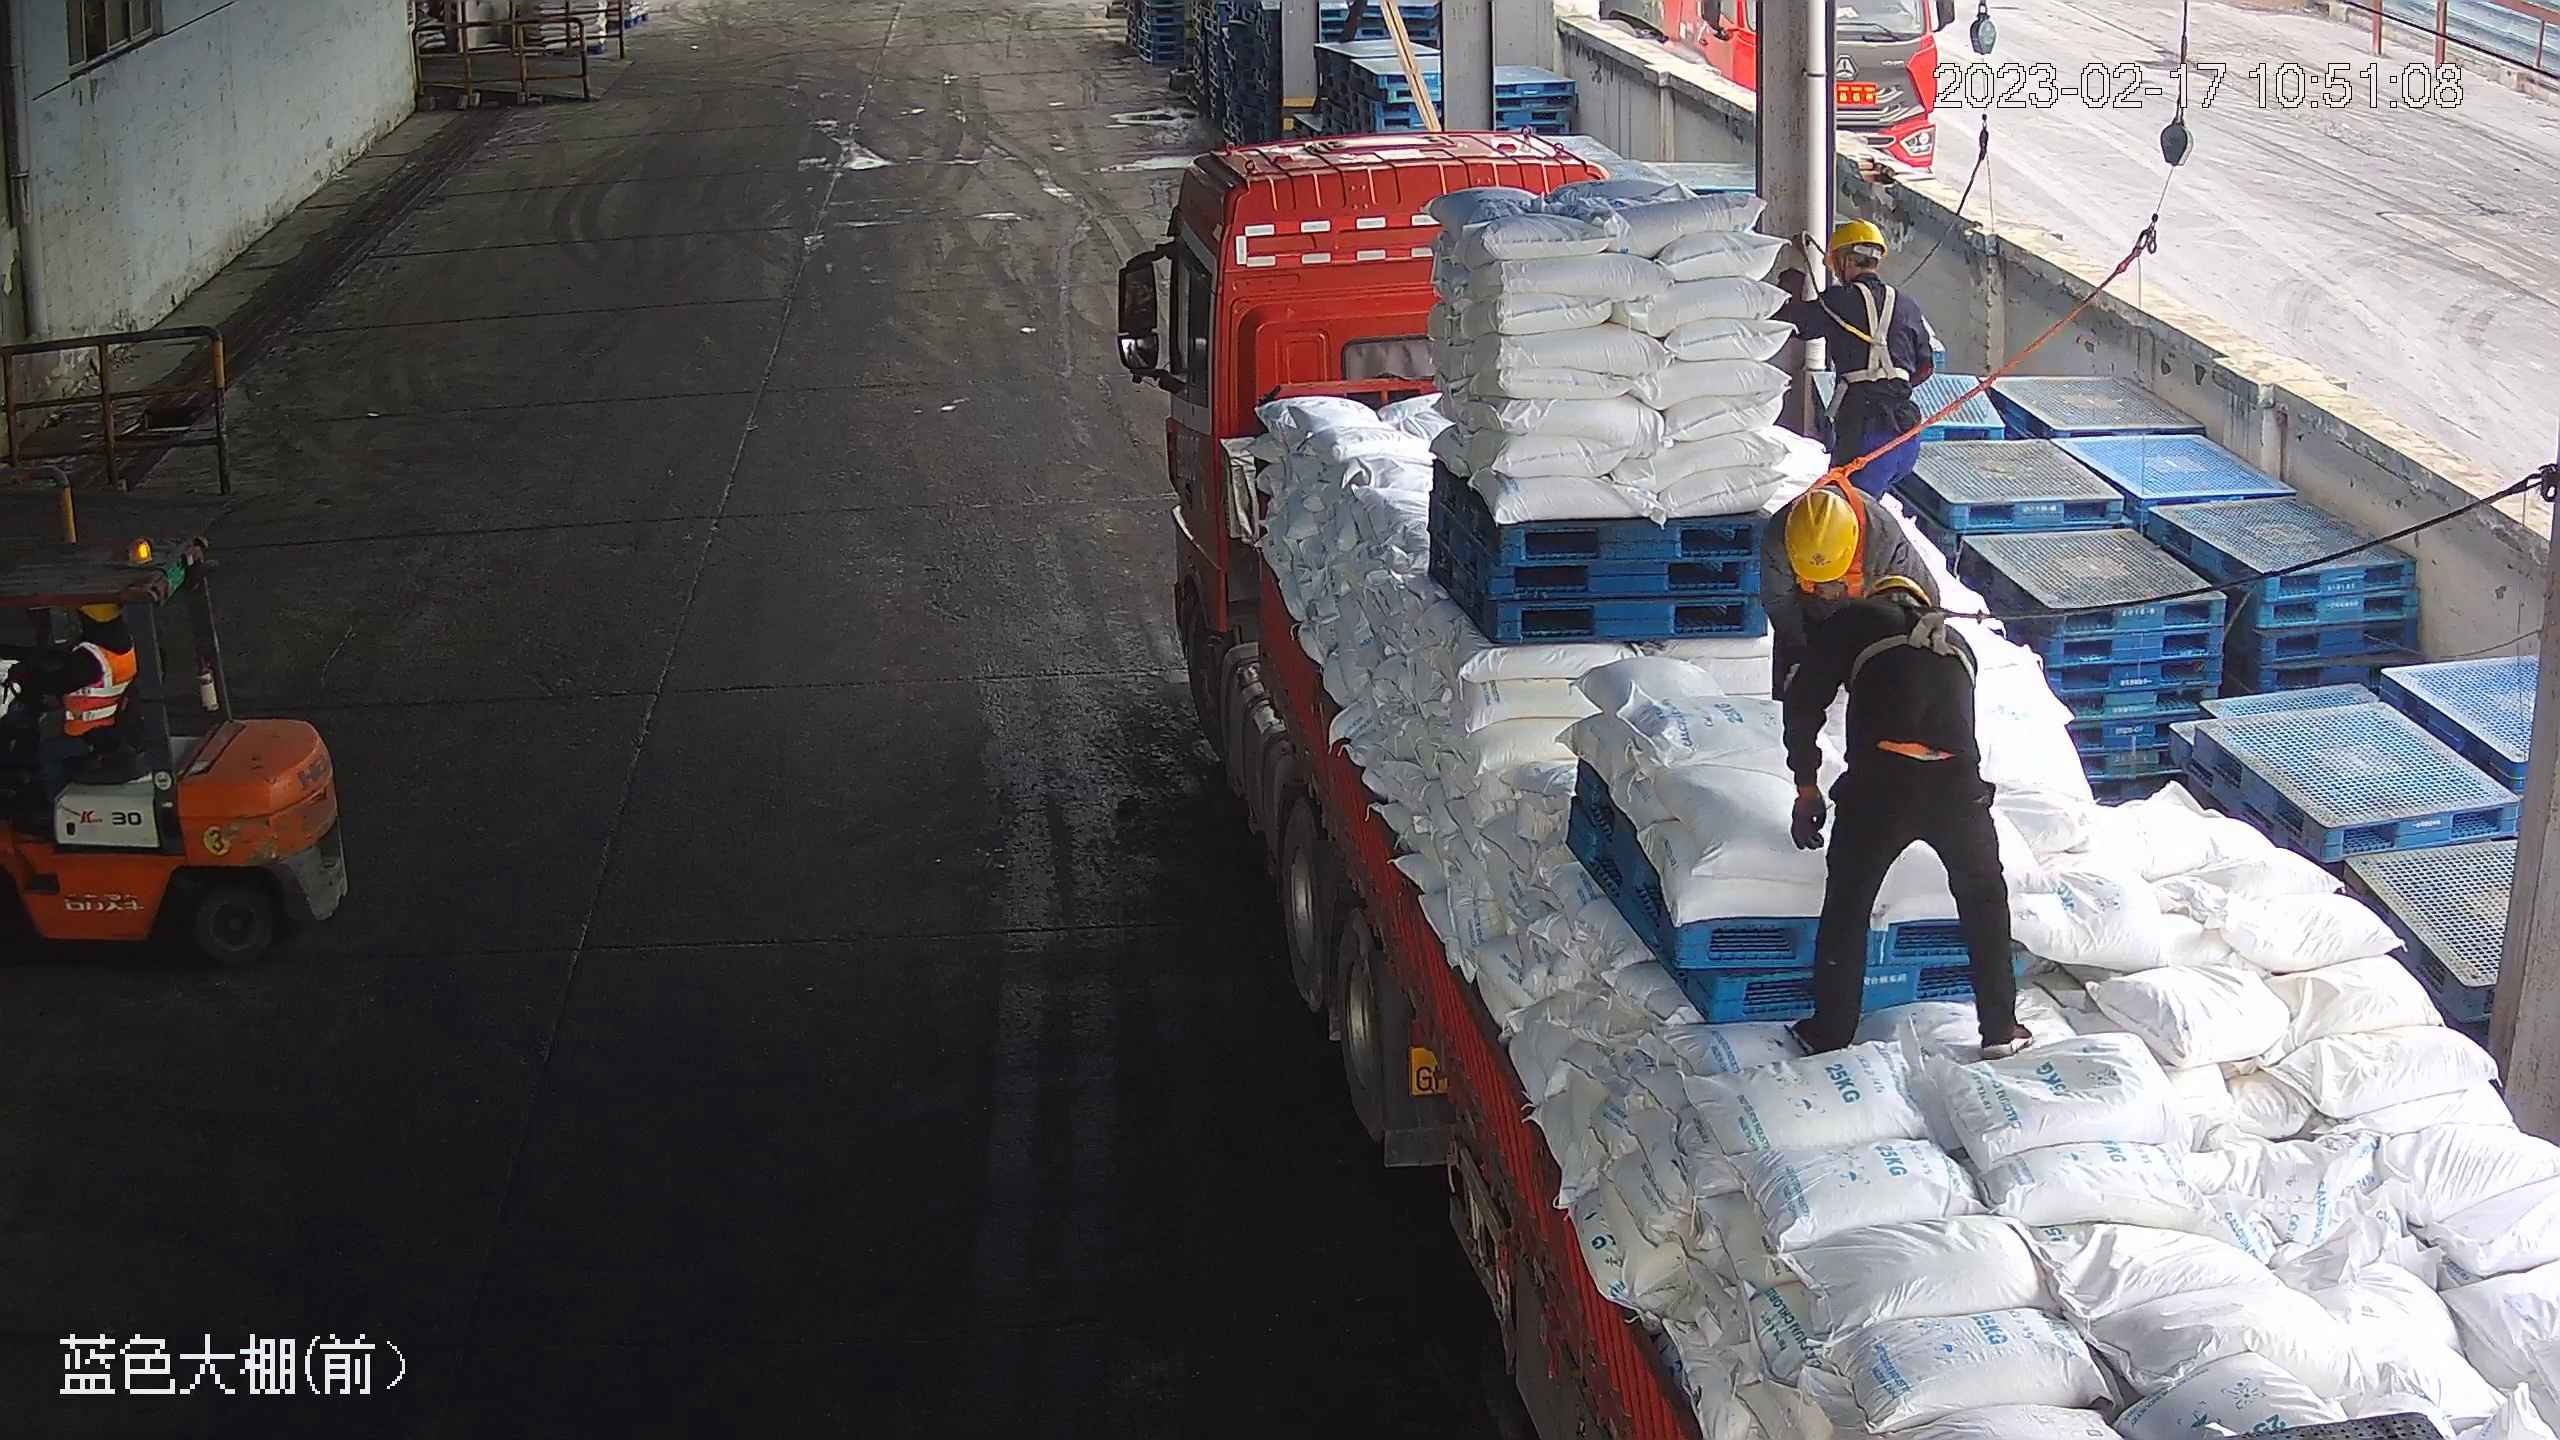belt: (1852, 589, 1978, 674), (1831, 278, 1912, 387)
head: (1773, 488, 1930, 603), (1805, 213, 1924, 331), (1845, 574, 1978, 664), (65, 602, 136, 675)
helmet: (1786, 488, 1863, 589), (1862, 577, 1933, 623), (1822, 214, 1886, 260)
people: (1777, 562, 2035, 1062), (1778, 213, 1936, 523), (1, 600, 139, 804)
truck: (1104, 125, 2559, 1440)
